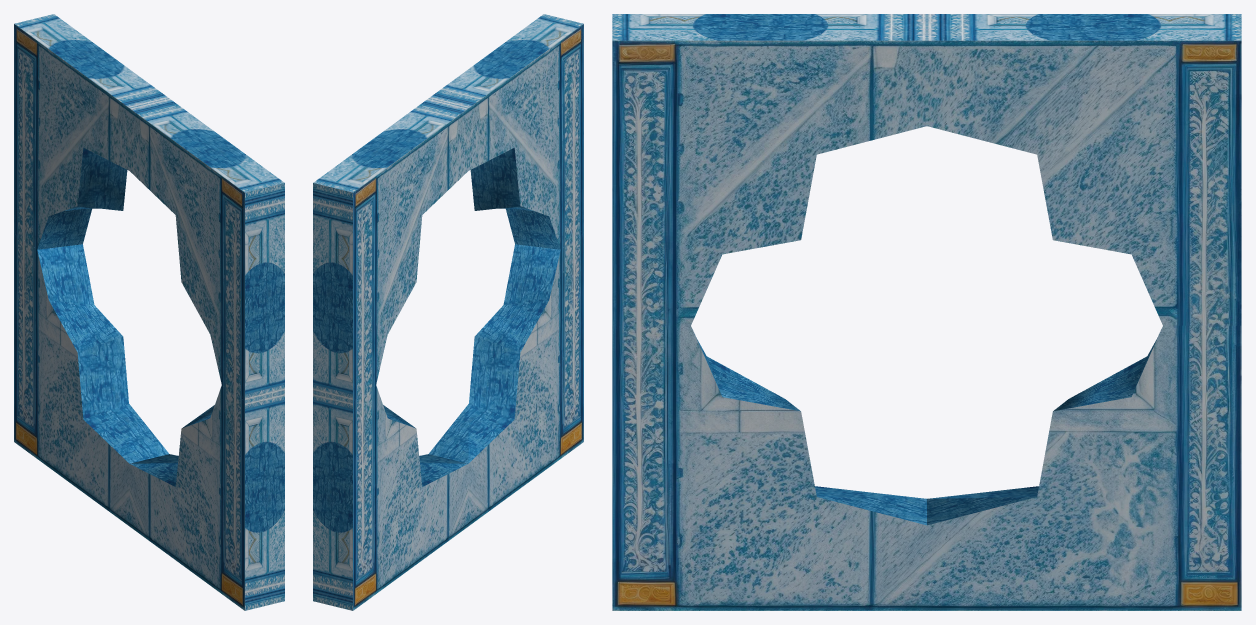
Rendered from blk_city_cracked.glb.
The picture shows the model from 3 angles, left to right: view 1: azimuth 30°, elevation 25°; view 2: azimuth 150°, elevation 25°; view 3: azimuth 270°, elevation 25°; orthographic projection. The views are drawn at different scales.
Parts seen in each view (by area): view 1: object1.004; view 2: object1.004; view 3: object1.004.
Boxes of the visible parts, bbox=[...] form: object1.004: bbox=[14, 14, 284, 610]; object1.004: bbox=[313, 14, 583, 610]; object1.004: bbox=[612, 14, 1241, 610].
Size of the model in its own units: 0.3 by 3 by 3.
Materials: 1 (1 with a texture image).
